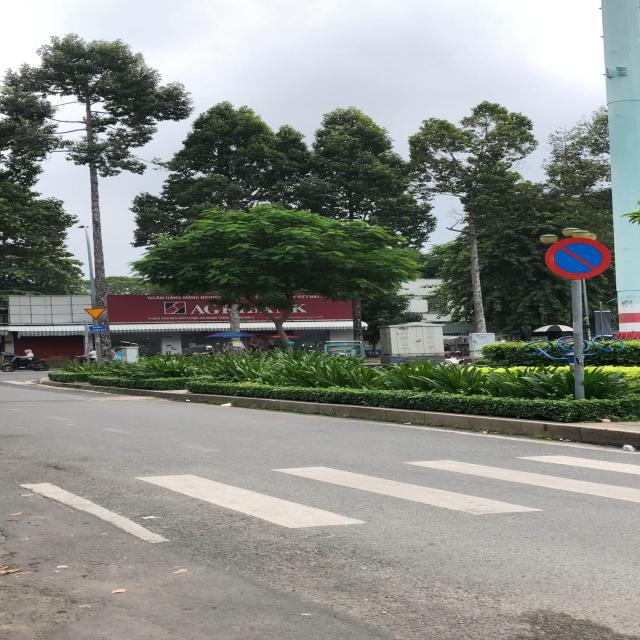Bien bao cam do xe: (542, 237, 615, 280)
Bien bao giao nhau voi duong uu tien: (82, 306, 108, 320)
